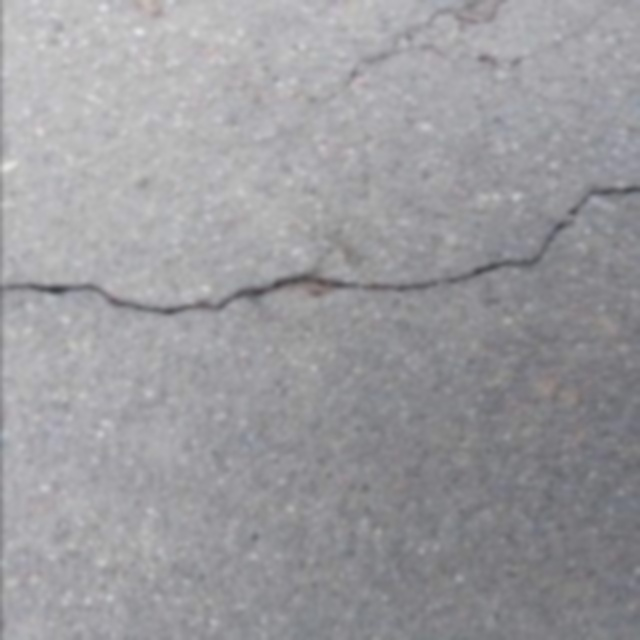SurfaceCrack: (0, 166, 630, 326)
